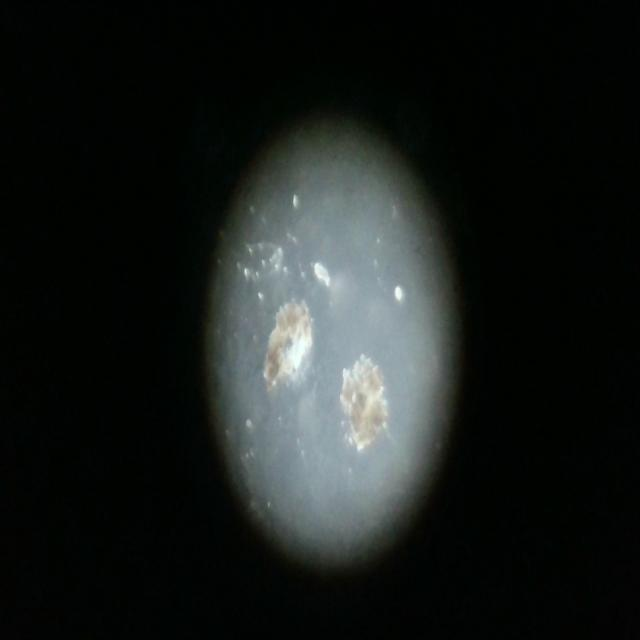alexandrium: (261, 272, 321, 399), (341, 339, 392, 461)
